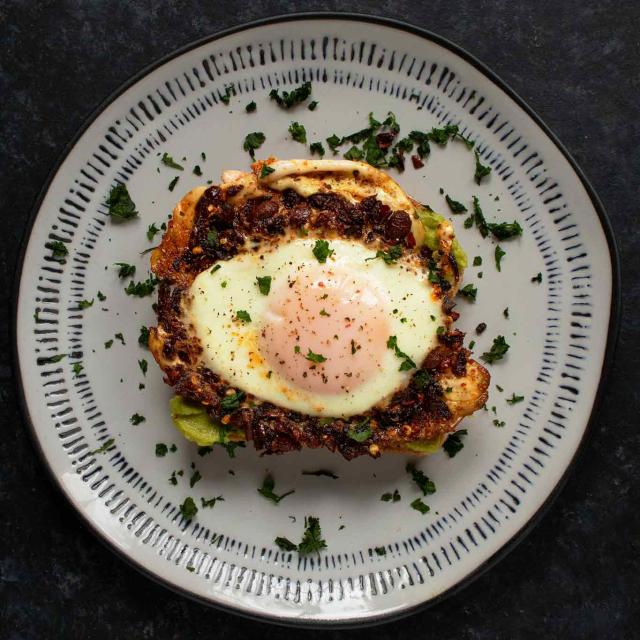Egg: (188, 240, 445, 416)
